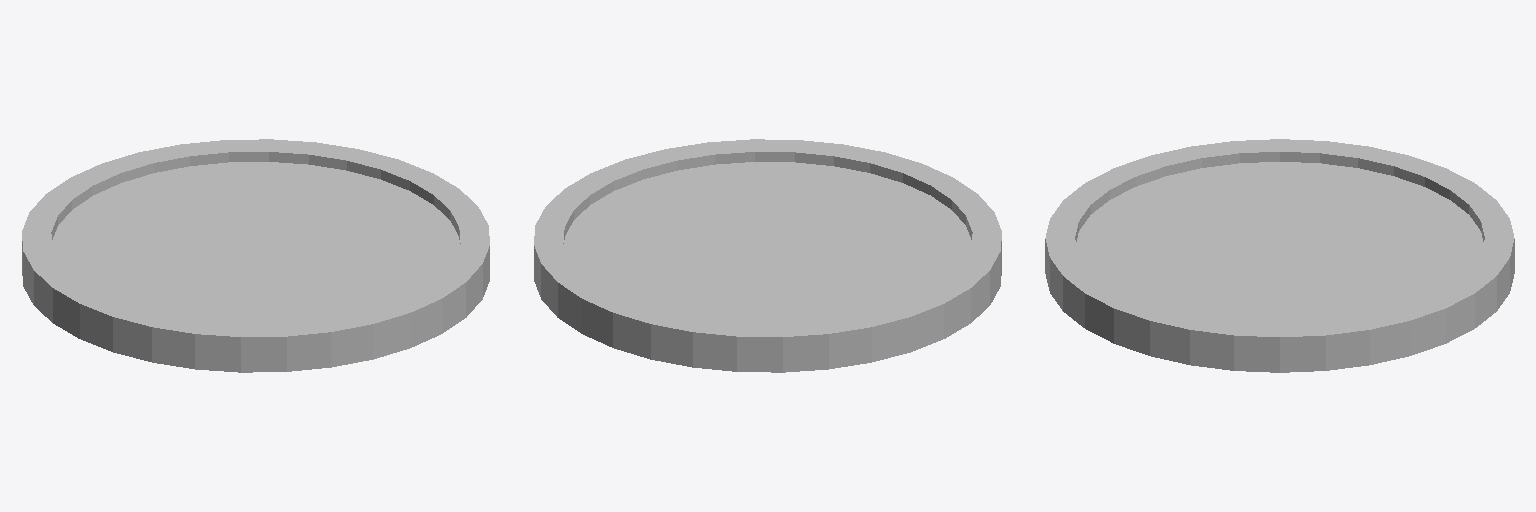
The model's file is puck.obj.
3 renders of one model, left to right at view 1: azimuth 30°, elevation 25°; view 2: azimuth 150°, elevation 25°; view 3: azimuth 270°, elevation 25°, orthographic.
Visible parts, largest first — view 1: Puck_Cylinder.001; view 2: Puck_Cylinder.001; view 3: Puck_Cylinder.001.
Part boxes in pixels (left/top/right/bottom): Puck_Cylinder.001: left=22, top=139, right=489, bottom=372; Puck_Cylinder.001: left=534, top=139, right=1001, bottom=372; Puck_Cylinder.001: left=1045, top=139, right=1514, bottom=372.
Size of the model in its own units: 3 by 0.25 by 3.